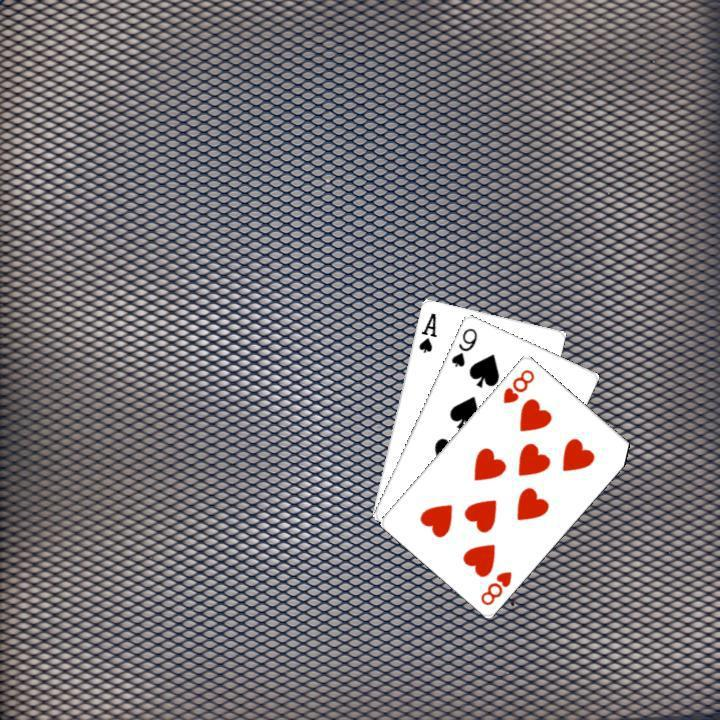8: (498, 364, 537, 405), (476, 566, 514, 607)
9: (447, 323, 479, 369)
A: (414, 308, 439, 354)
